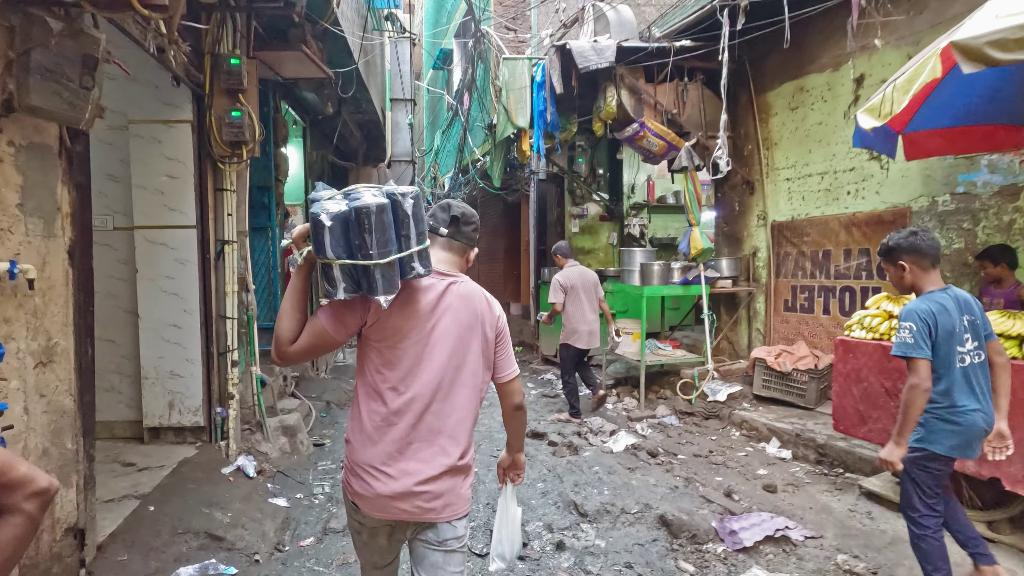garbage: (488, 479, 523, 576), (700, 376, 746, 404), (222, 453, 261, 481), (757, 437, 799, 462), (602, 426, 640, 452)
